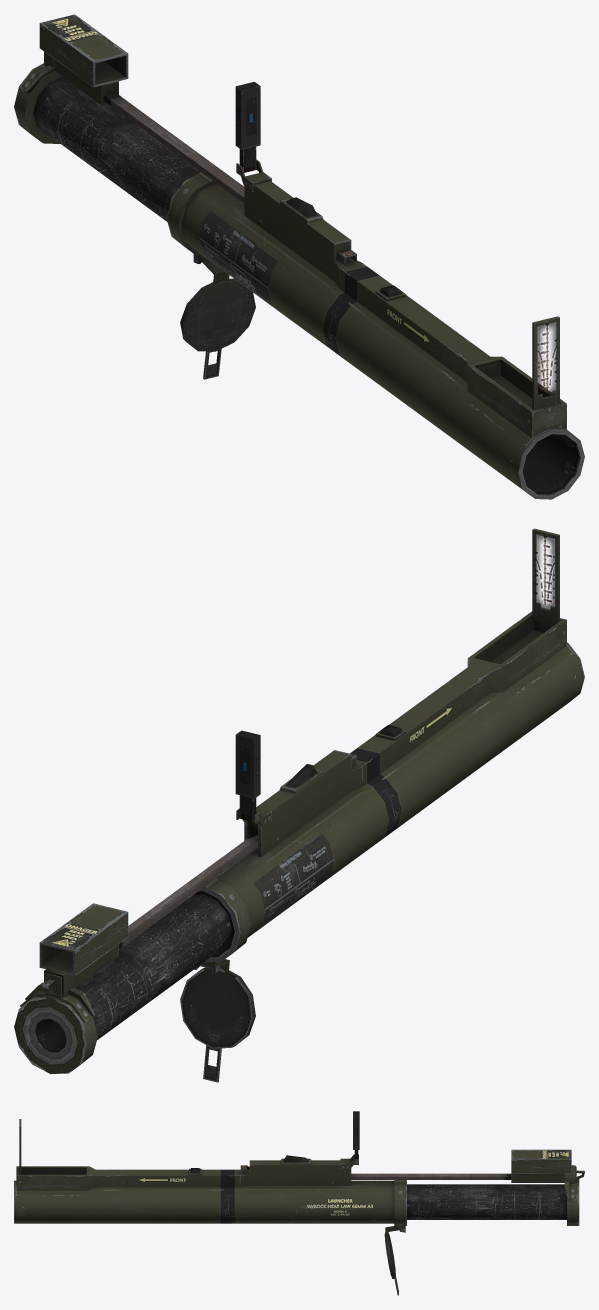
The picture shows the model from 3 angles, top to bottom: view 1: azimuth 30°, elevation 25°; view 2: azimuth 150°, elevation 25°; view 3: azimuth 270°, elevation 25°; orthographic projection. The views are drawn at different scales.
Visible parts, largest first — view 1: m72law008_Material #29_0; view 2: m72law008_Material #29_0; view 3: m72law008_Material #29_0.
Part boxes in pixels (bbox=[...]): m72law008_Material #29_0: bbox=[14, 14, 584, 499]; m72law008_Material #29_0: bbox=[14, 528, 584, 1082]; m72law008_Material #29_0: bbox=[14, 1111, 584, 1295].
Size of the model in its own units: 0.074 by 0.3079 by 0.8871.
1 material, 1 textured.
